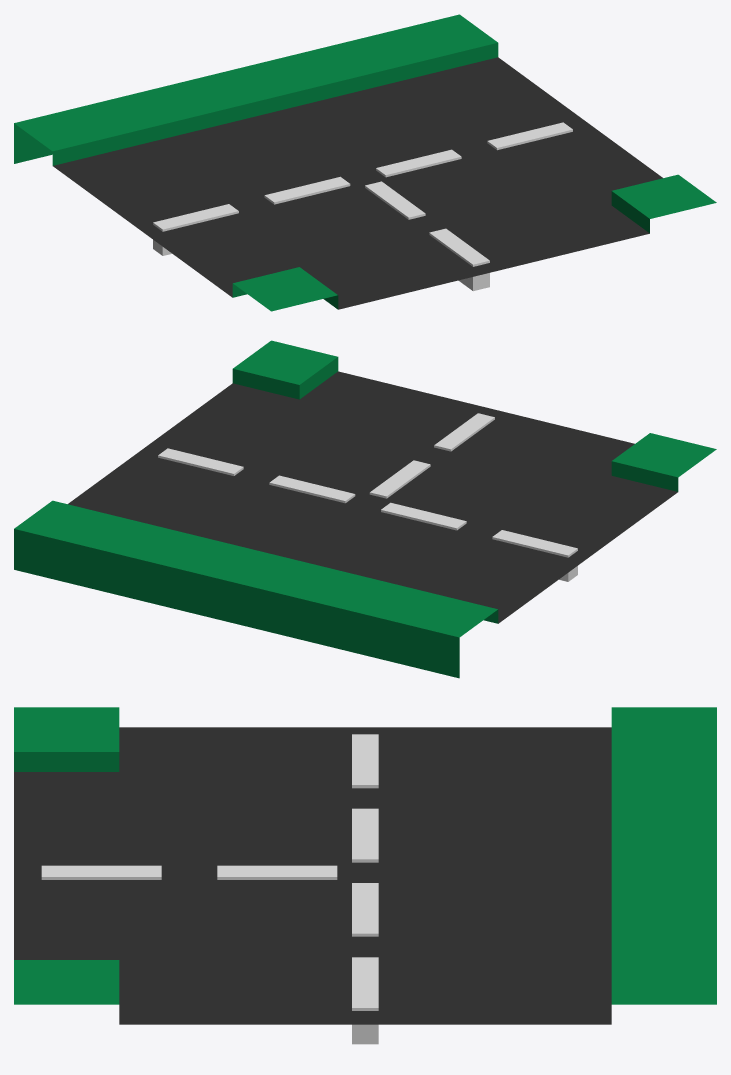
File: Road_Tsplit.fbx
The picture shows the model from 3 angles, top to bottom: view 1: azimuth 30°, elevation 25°; view 2: azimuth 150°, elevation 25°; view 3: azimuth 270°, elevation 25°; orthographic projection. The views are drawn at different scales.
Visible parts, largest first — view 1: Road_Tsplit; view 2: Road_Tsplit; view 3: Road_Tsplit.
Boxes of the visible parts, x1,y1,x2,y2 form: Road_Tsplit: [14, 14, 716, 311]; Road_Tsplit: [14, 340, 716, 678]; Road_Tsplit: [14, 707, 716, 1044].
Bounding box in the file's own units: 96 × 8.42 × 96.
